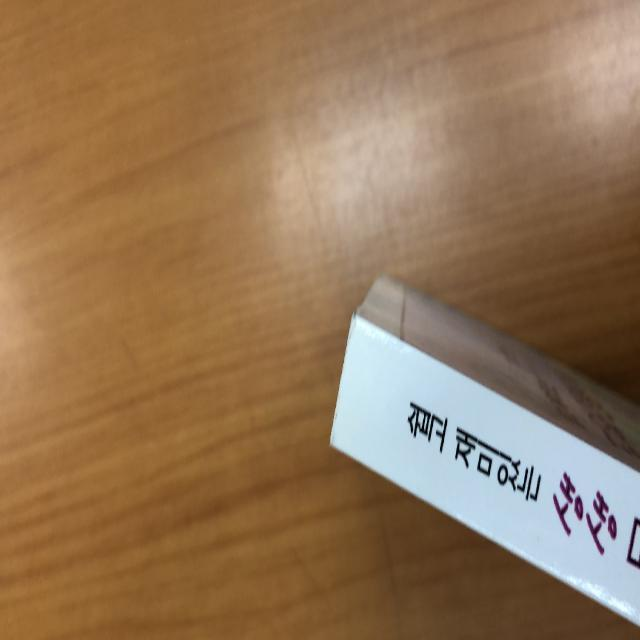Wornout: (320, 379, 346, 469), (341, 290, 367, 380)
